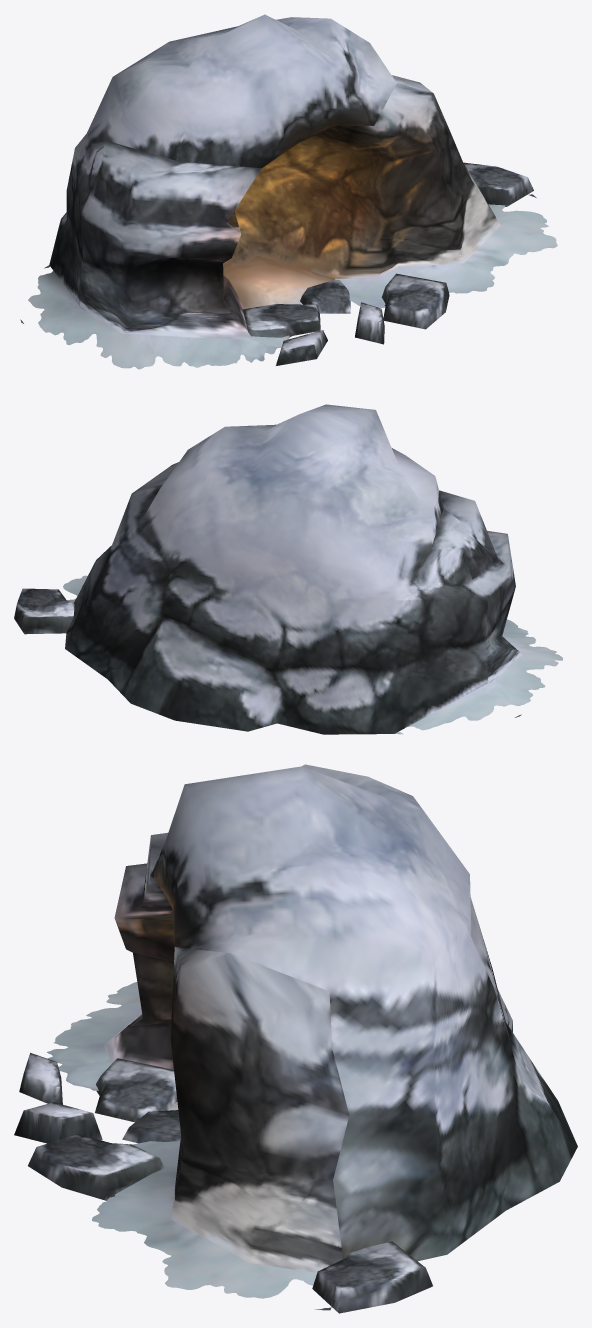
The model's file is rzjd_shidong_01.FBX.
The picture shows the model from 3 angles, top to bottom: view 1: azimuth 30°, elevation 25°; view 2: azimuth 150°, elevation 25°; view 3: azimuth 270°, elevation 25°; orthographic projection. The views are drawn at different scales.
Parts seen in each view (by area): view 1: rzjd_shidong_01; view 2: rzjd_shidong_01; view 3: rzjd_shidong_01.
Boxes of the visible parts, x1,y1,x2,y2 form: rzjd_shidong_01: (20, 14, 557, 369); rzjd_shidong_01: (14, 404, 562, 734); rzjd_shidong_01: (14, 764, 577, 1313).
Bounding box in the file's own units: 1646 × 1144 × 771.
